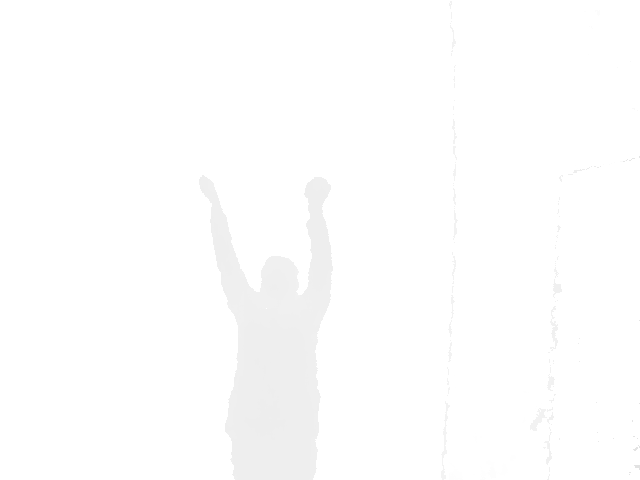hand: (303, 176, 333, 215), (198, 174, 222, 203)
head: (259, 255, 300, 301)
person: (197, 174, 334, 480)
